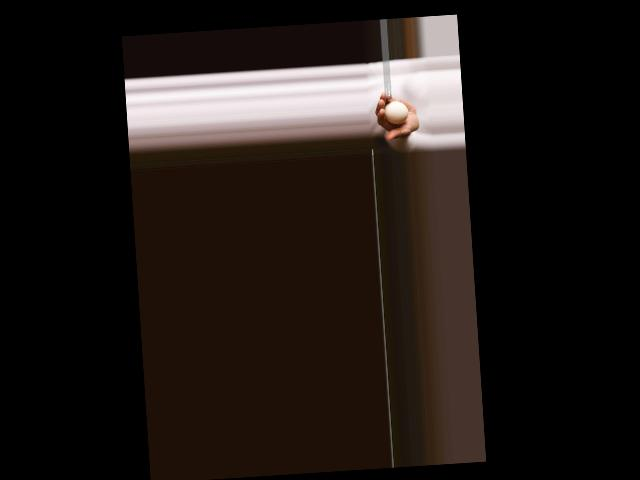egg: (383, 100, 408, 124)
